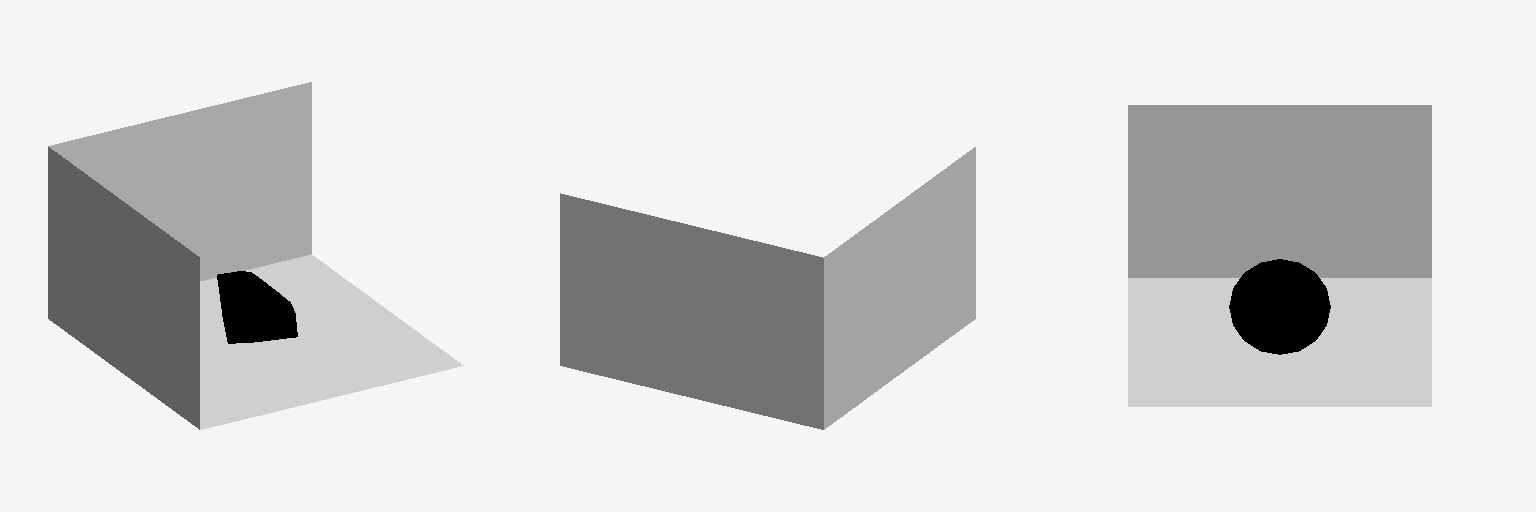
Rendered from Diamond-ori.obj.
3 renders of one model, left to right at view 1: azimuth 30°, elevation 25°; view 2: azimuth 150°, elevation 25°; view 3: azimuth 270°, elevation 25°, orthographic.
Size of the model in its own units: 12 by 7.5 by 12.